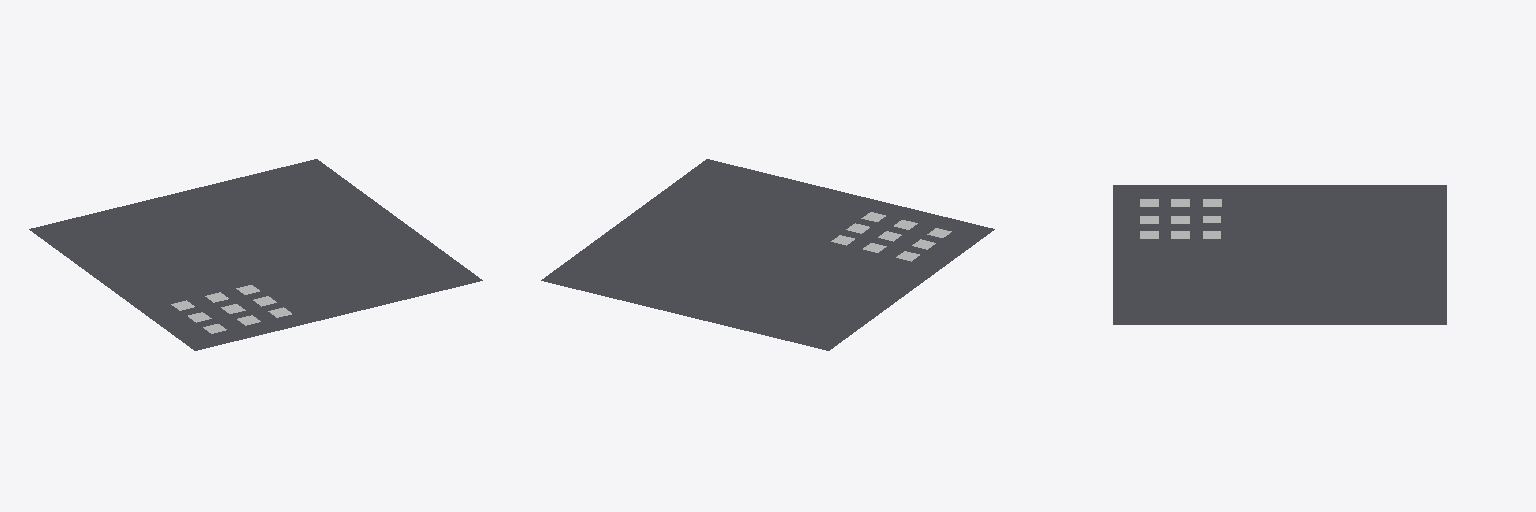
3 views of the same model, side by side, from view 1: azimuth 30°, elevation 25°; view 2: azimuth 150°, elevation 25°; view 3: azimuth 270°, elevation 25° (orthographic).
Parts seen in each view (by area): view 1: Plane; view 2: Plane; view 3: Plane.
Boxes of the visible parts, <box> form: Plane: <box>29,159,482,350</box>; Plane: <box>541,159,994,350</box>; Plane: <box>1113,185,1446,324</box>.
Size of the model in its own units: 100 by 0.6888 by 100.